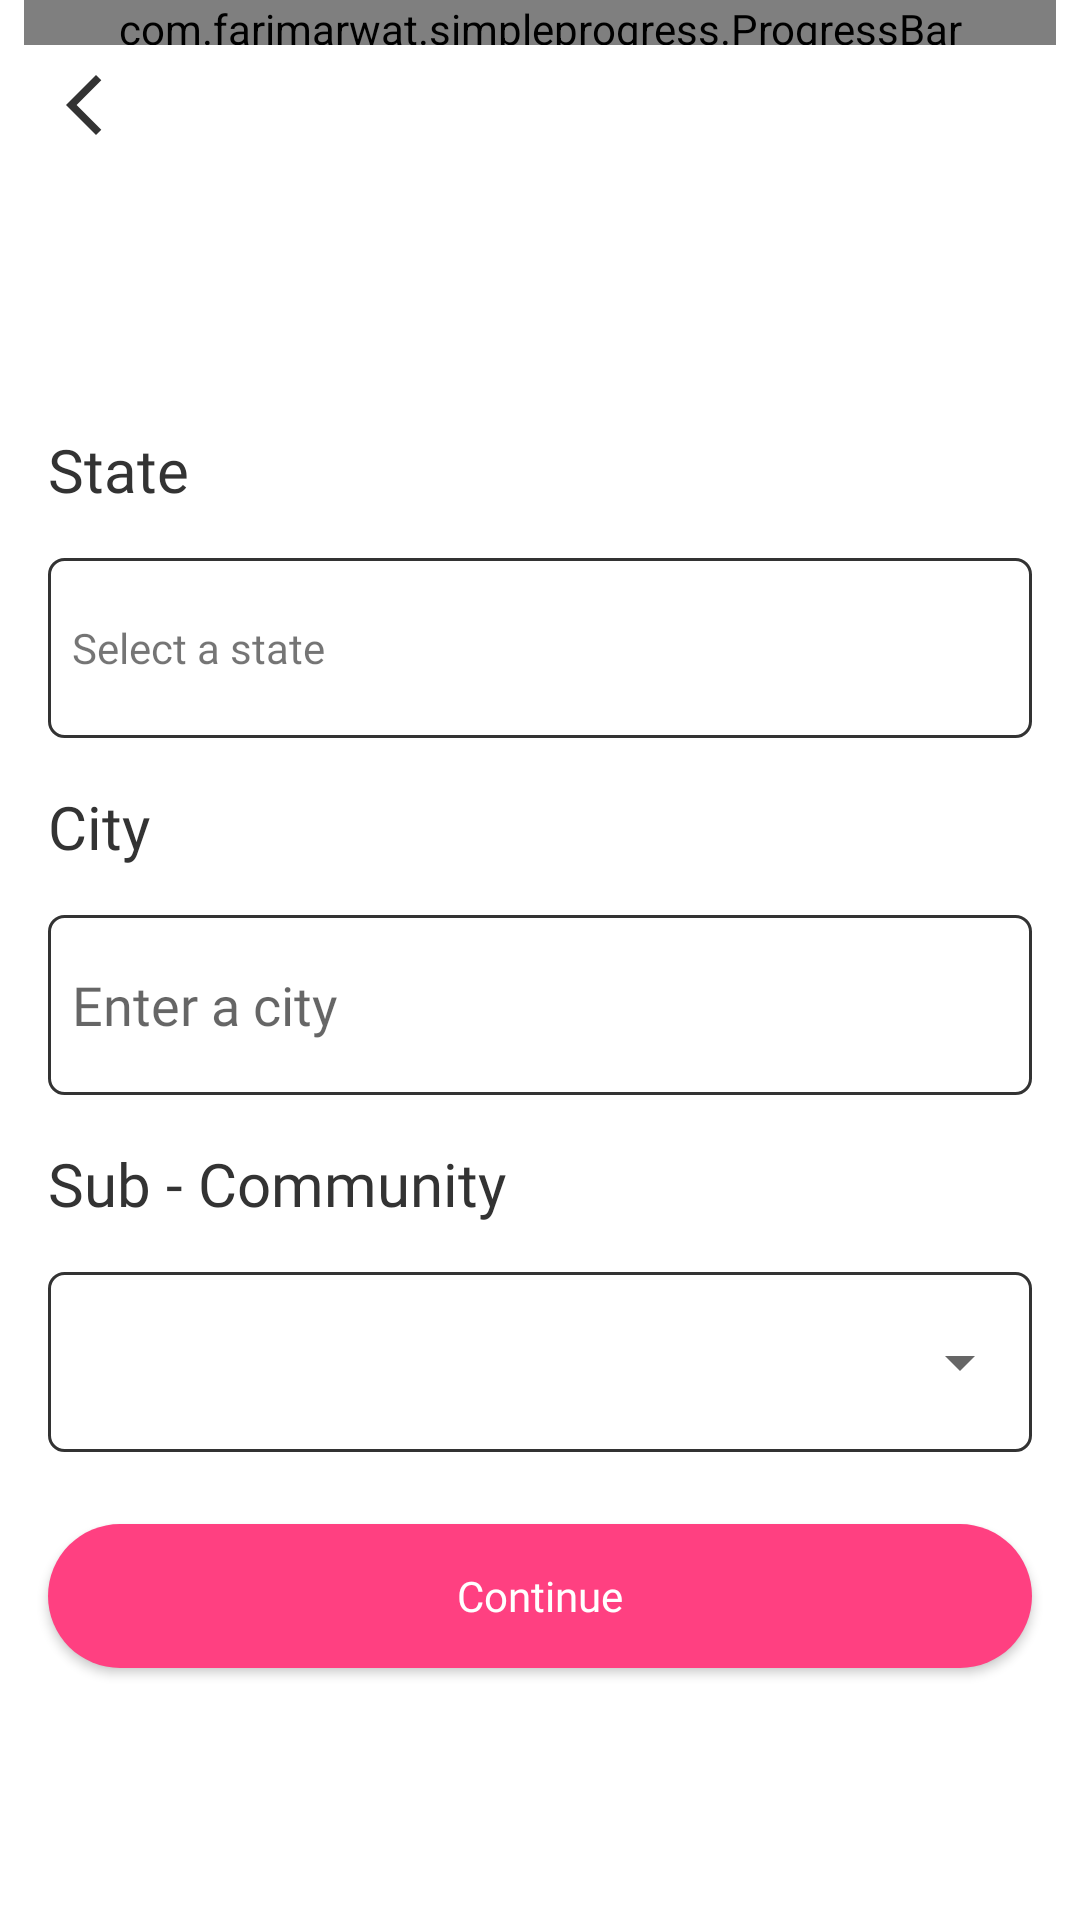

Icons on this 1080×1920 Android screen, each with its box as (x1, y1, x2, y2):
arrow back: (66, 75, 101, 135)
